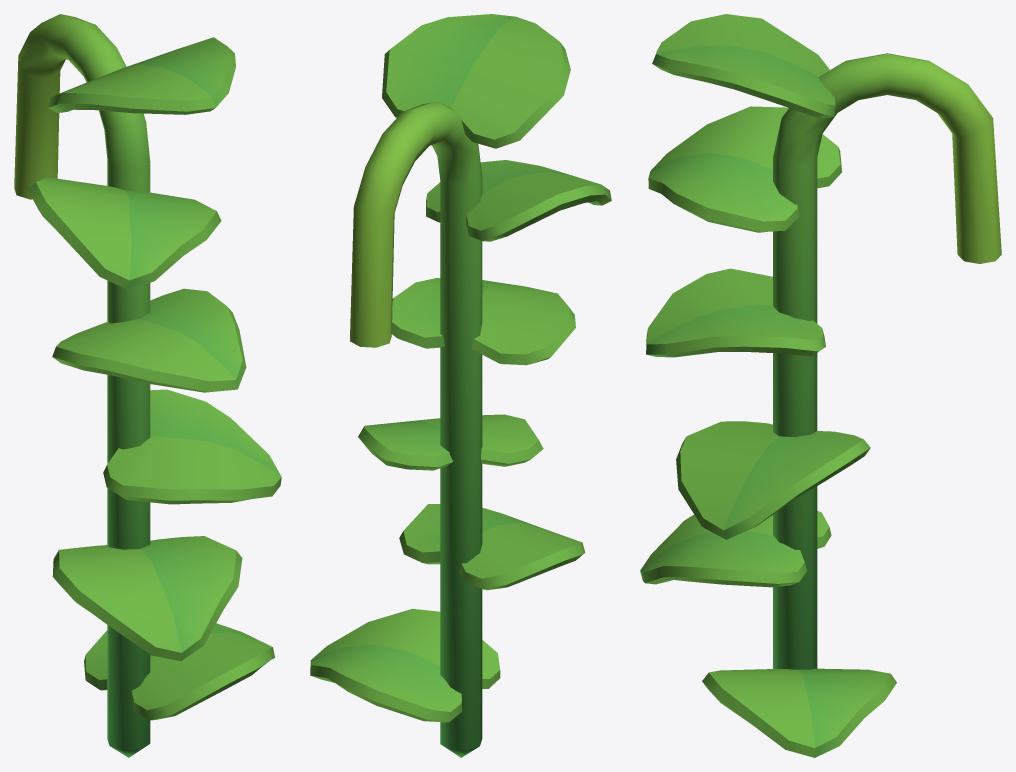
Rendered from house_plants_plants_pothos_vine_medium_c.glb.
3 views of the same model, side by side, from view 1: azimuth 30°, elevation 25°; view 2: azimuth 150°, elevation 25°; view 3: azimuth 270°, elevation 25° (orthographic). The views are drawn at different scales.
Visible parts, largest first — view 1: pothos_vine_medium_C; view 2: pothos_vine_medium_C; view 3: pothos_vine_medium_C.
Part boxes in pixels (left/top/right/bottom): pothos_vine_medium_C: left=14, top=14, right=281, bottom=757; pothos_vine_medium_C: left=310, top=14, right=611, bottom=757; pothos_vine_medium_C: left=640, top=14, right=1001, bottom=757.
Size of the model in its own units: 0.535 by 1.43 by 0.6596.
1 material, 1 textured.
